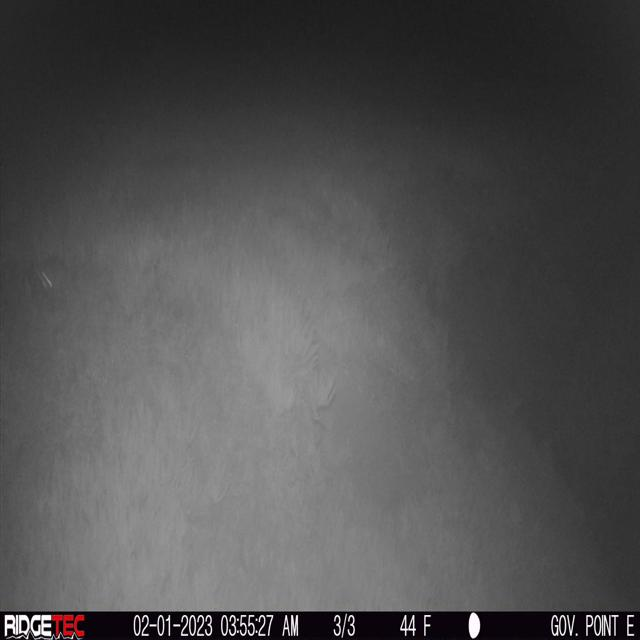rodent: (26, 245, 78, 304)
